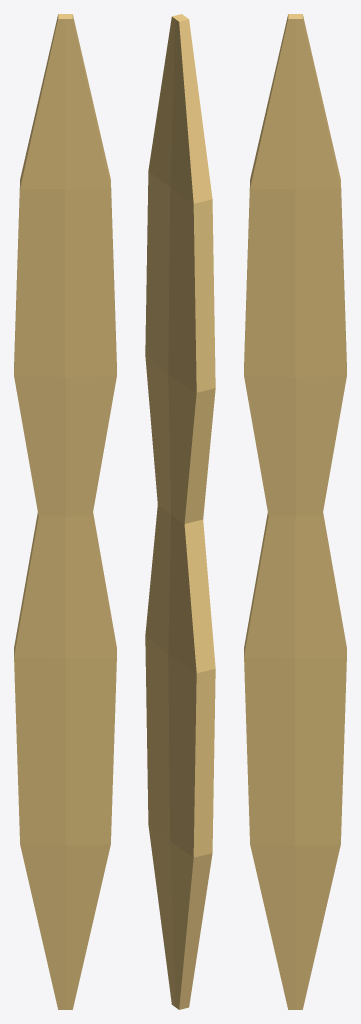
File: plane_good_helic.fbx
The picture shows the model from 3 angles, left to right: view 1: azimuth 90°, elevation 25°; view 2: azimuth 210°, elevation 25°; view 3: azimuth 270°, elevation 25°; orthographic projection.
Visible parts, largest first — view 1: helic; view 2: helic; view 3: helic.
Part boxes in pixels (x1,y1,x2,y2): helic: (14, 14, 116, 1009); helic: (145, 14, 215, 1009); helic: (244, 14, 346, 1009).
Bounding box in the file's own units: 5.99 × 232 × 21.83.
